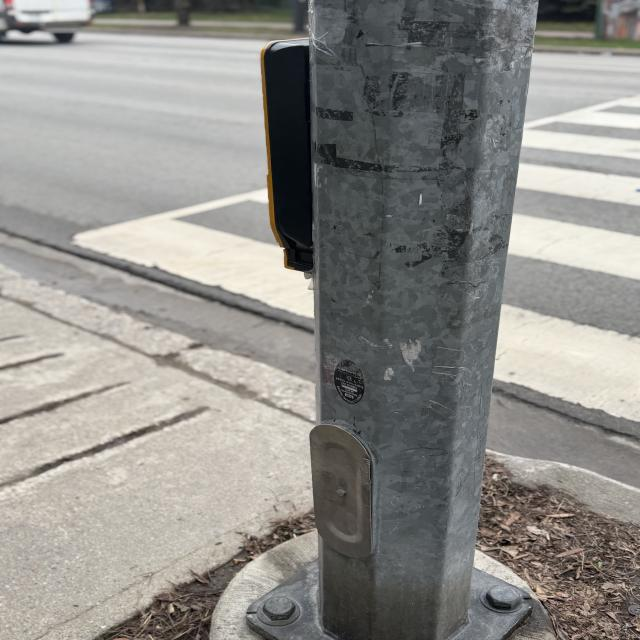Electrical Pole: (236, 3, 545, 640)
